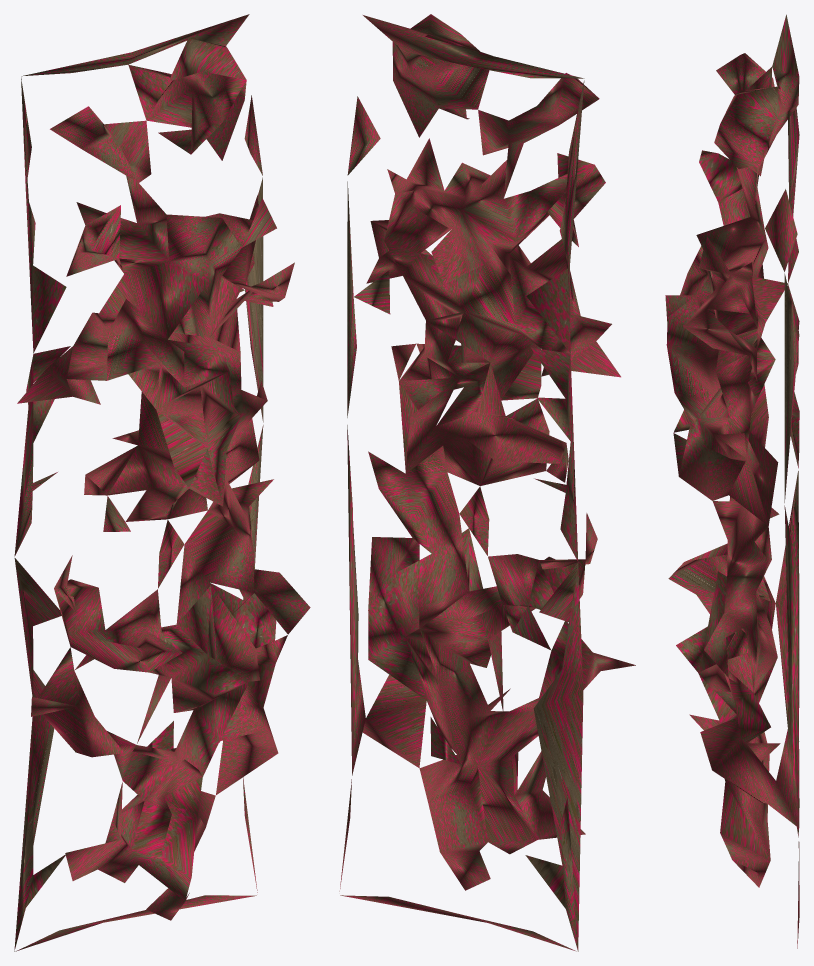
File: trellis_lod1.glb
3 views of the same model, side by side, from view 1: azimuth 30°, elevation 25°; view 2: azimuth 150°, elevation 25°; view 3: azimuth 270°, elevation 25° (orthographic). The views are drawn at different scales.
Bounding box in the file's own units: 0.581 × 1.85 × 0.2698.
Materials: 1 (1 with a texture image).
